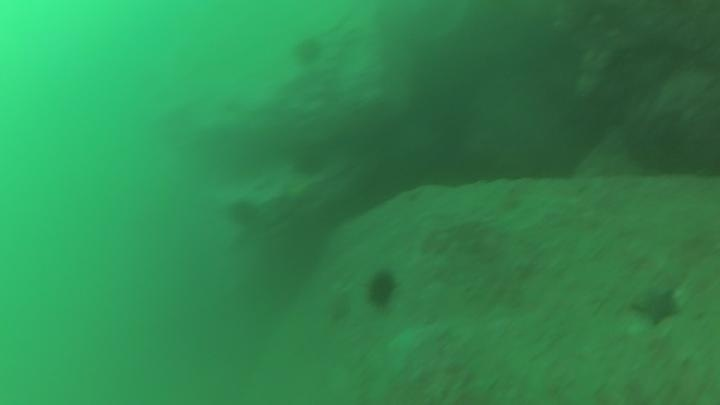echinus: (362, 267, 401, 312), (289, 143, 332, 180), (225, 196, 263, 230), (324, 287, 354, 327), (291, 34, 326, 68)
starfish: (629, 283, 684, 329)
